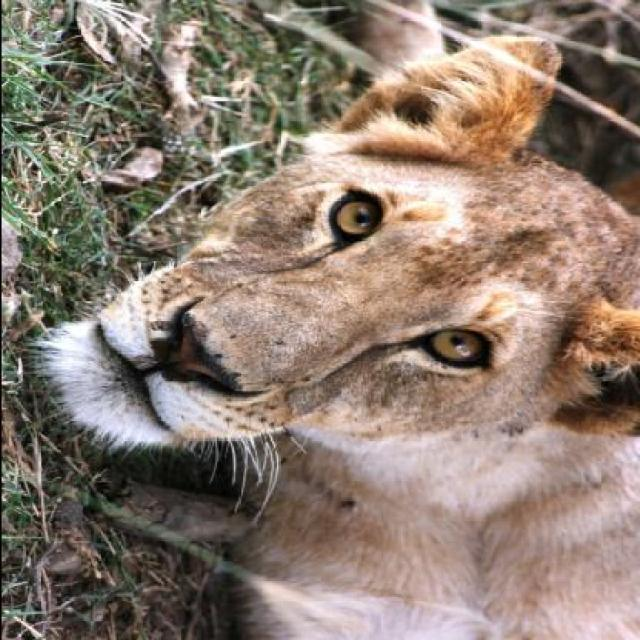Lion: (0, 21, 629, 638)
